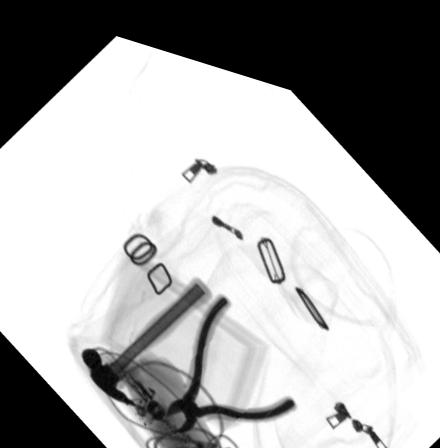Hammer: (80, 262, 211, 396)
Pliers: (167, 278, 295, 423)
